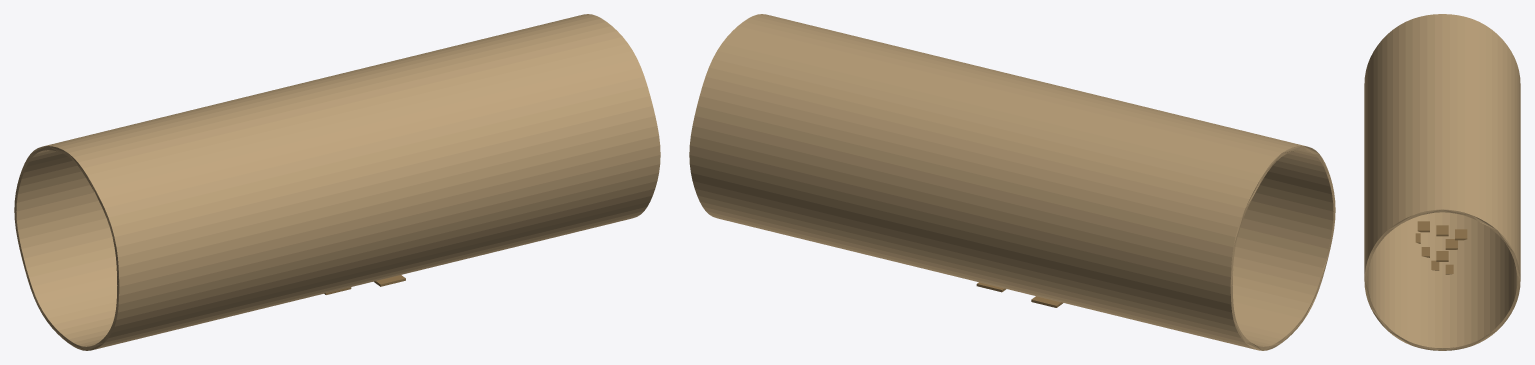
Rendered from paper.glb.
3 views of the same model, side by side, from view 1: azimuth 30°, elevation 25°; view 2: azimuth 150°, elevation 25°; view 3: azimuth 270°, elevation 25° (orthographic). The views are drawn at different scales.
Parts seen in each view (by area): view 1: RoughEnds; view 2: RoughEnds; view 3: RoughEnds, DustFlake_8, DustFlake_11, DustFlake_5, DustFlake_1, DustFlake_10.
Boxes of the visible parts, bbox=[...] form: RoughEnds: bbox=[14, 14, 660, 350]; RoughEnds: bbox=[689, 14, 1335, 350]; RoughEnds: bbox=[1364, 14, 1520, 350]; DustFlake_8: bbox=[1436, 225, 1448, 236]; DustFlake_11: bbox=[1417, 221, 1429, 232]; DustFlake_5: bbox=[1455, 229, 1467, 240]; DustFlake_1: bbox=[1436, 251, 1448, 261]; DustFlake_10: bbox=[1445, 239, 1457, 249].
Size of what is drawn, in the model's own units: 0.298 by 0.1 by 0.1.
